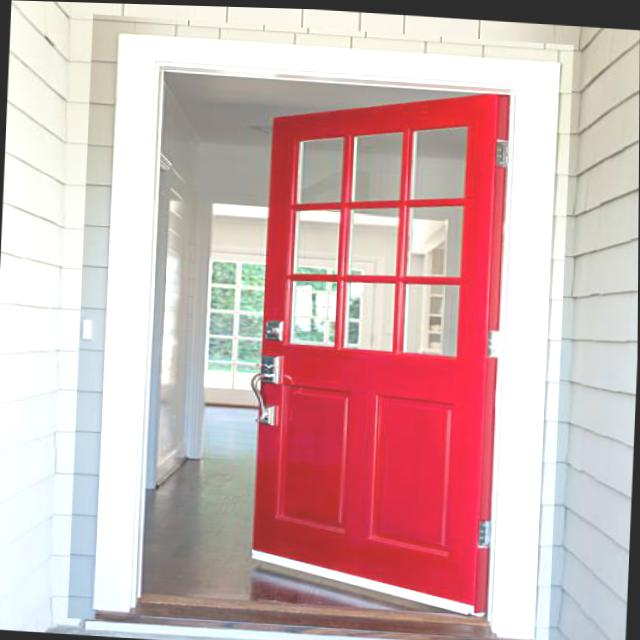semi-open: (67, 12, 575, 639)
